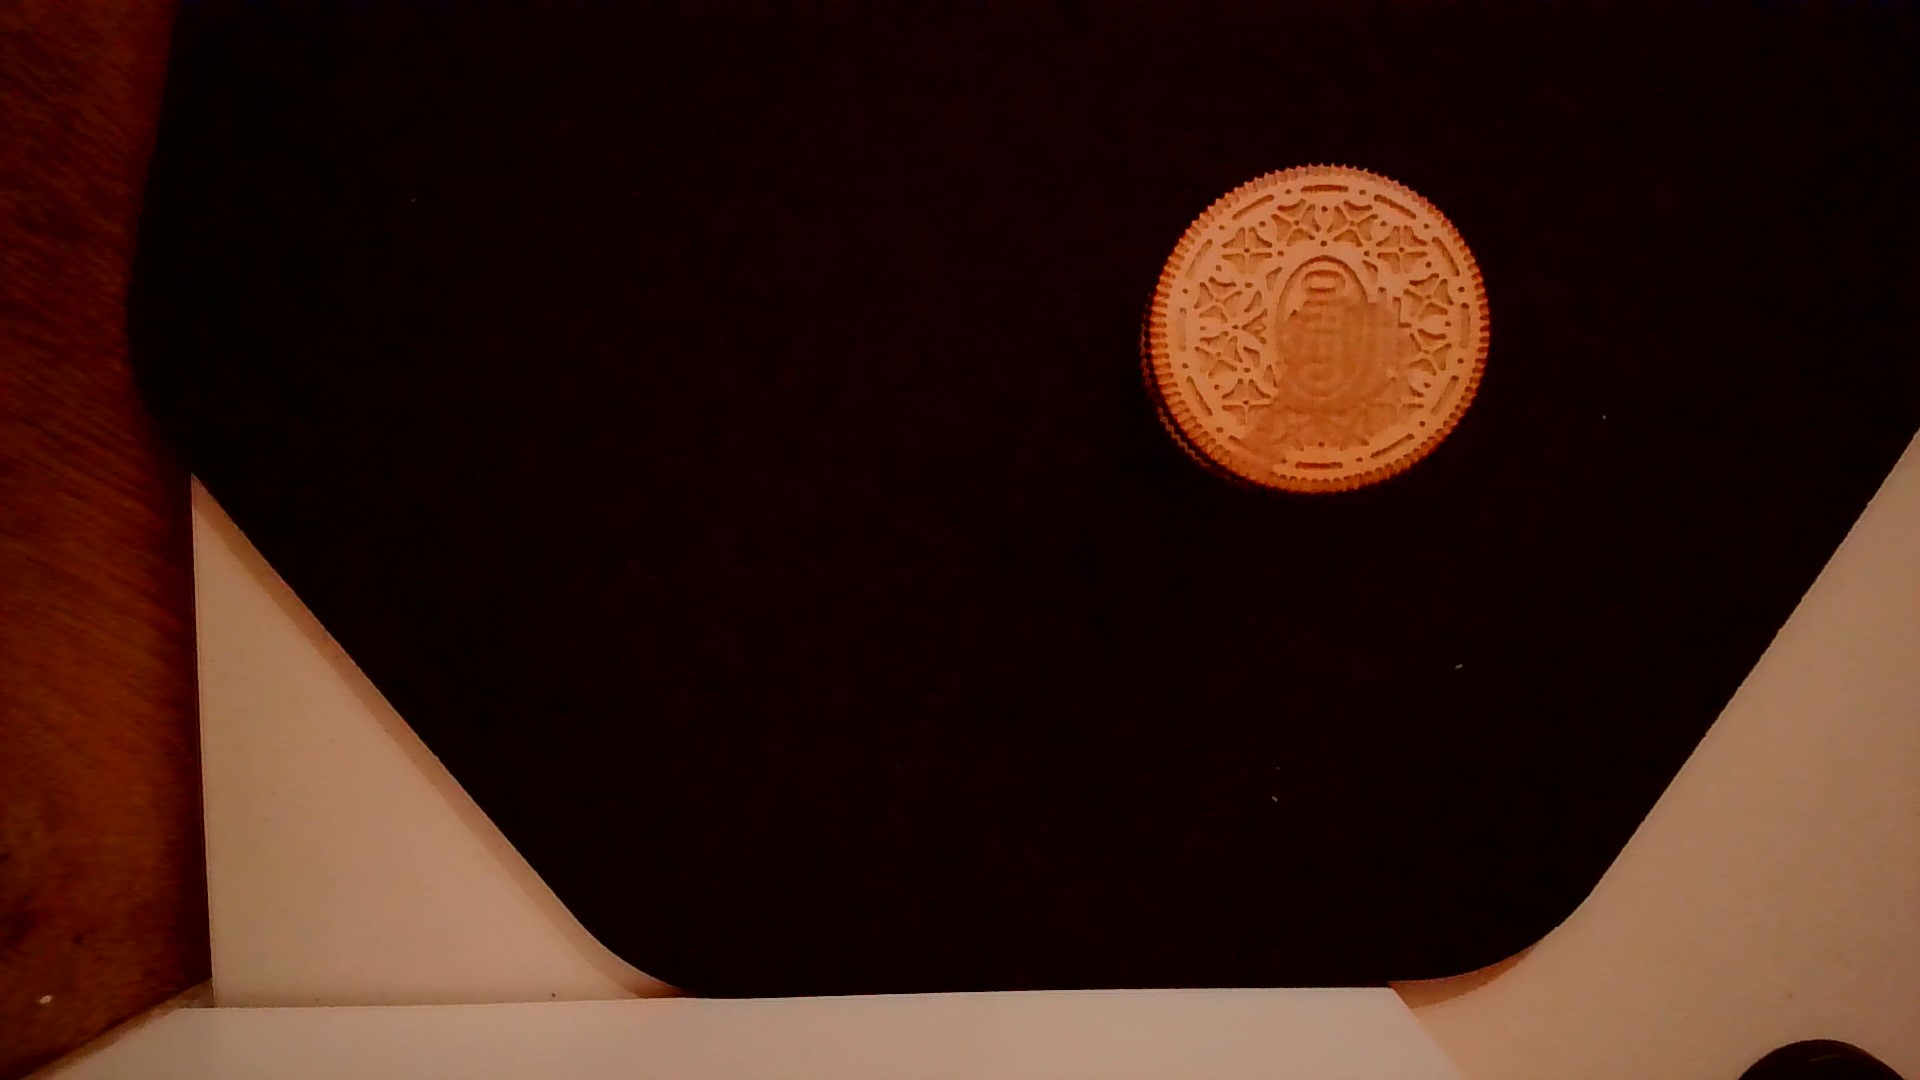Effacé: (1255, 294, 1423, 465)
Oréo: (1134, 157, 1495, 509)
